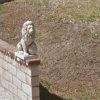Statue: (10, 17, 46, 67)
